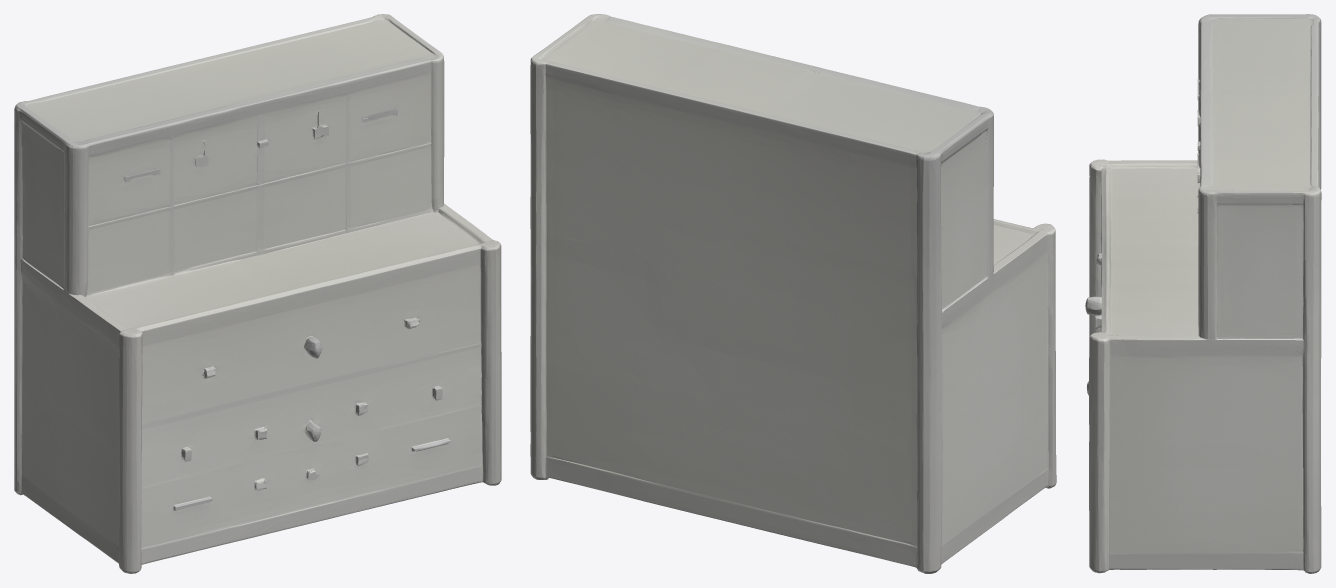
Rendered from banko2.glb.
3 views of the same model, side by side, from view 1: azimuth 30°, elevation 25°; view 2: azimuth 150°, elevation 25°; view 3: azimuth 270°, elevation 25° (orthographic). The views are drawn at different scales.
Size of the model in its own units: 99.09 by 97.41 by 54.34.
1 material, 1 textured.
